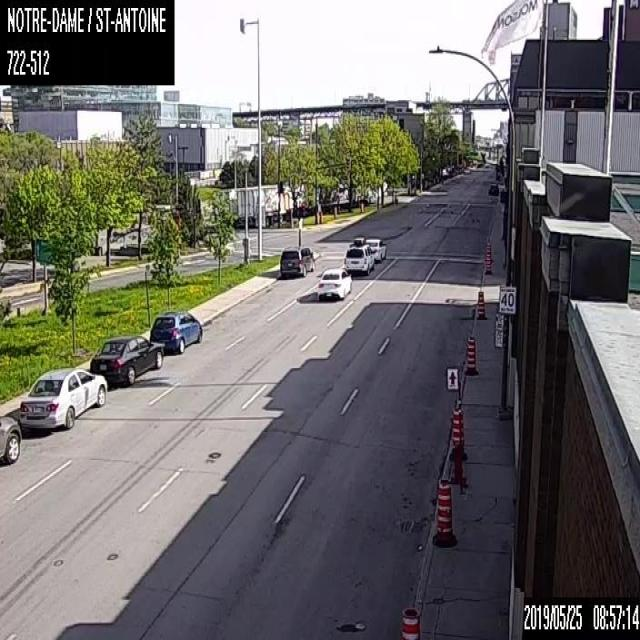construction: (430, 476, 458, 547), (448, 403, 468, 460), (397, 602, 422, 638), (463, 332, 478, 375), (475, 289, 488, 320), (484, 240, 494, 275)
vehicle: (18, 366, 106, 430), (90, 334, 162, 384), (150, 310, 202, 352), (316, 267, 351, 301), (278, 244, 314, 277), (342, 236, 374, 272), (0, 413, 22, 463), (364, 235, 386, 261)
